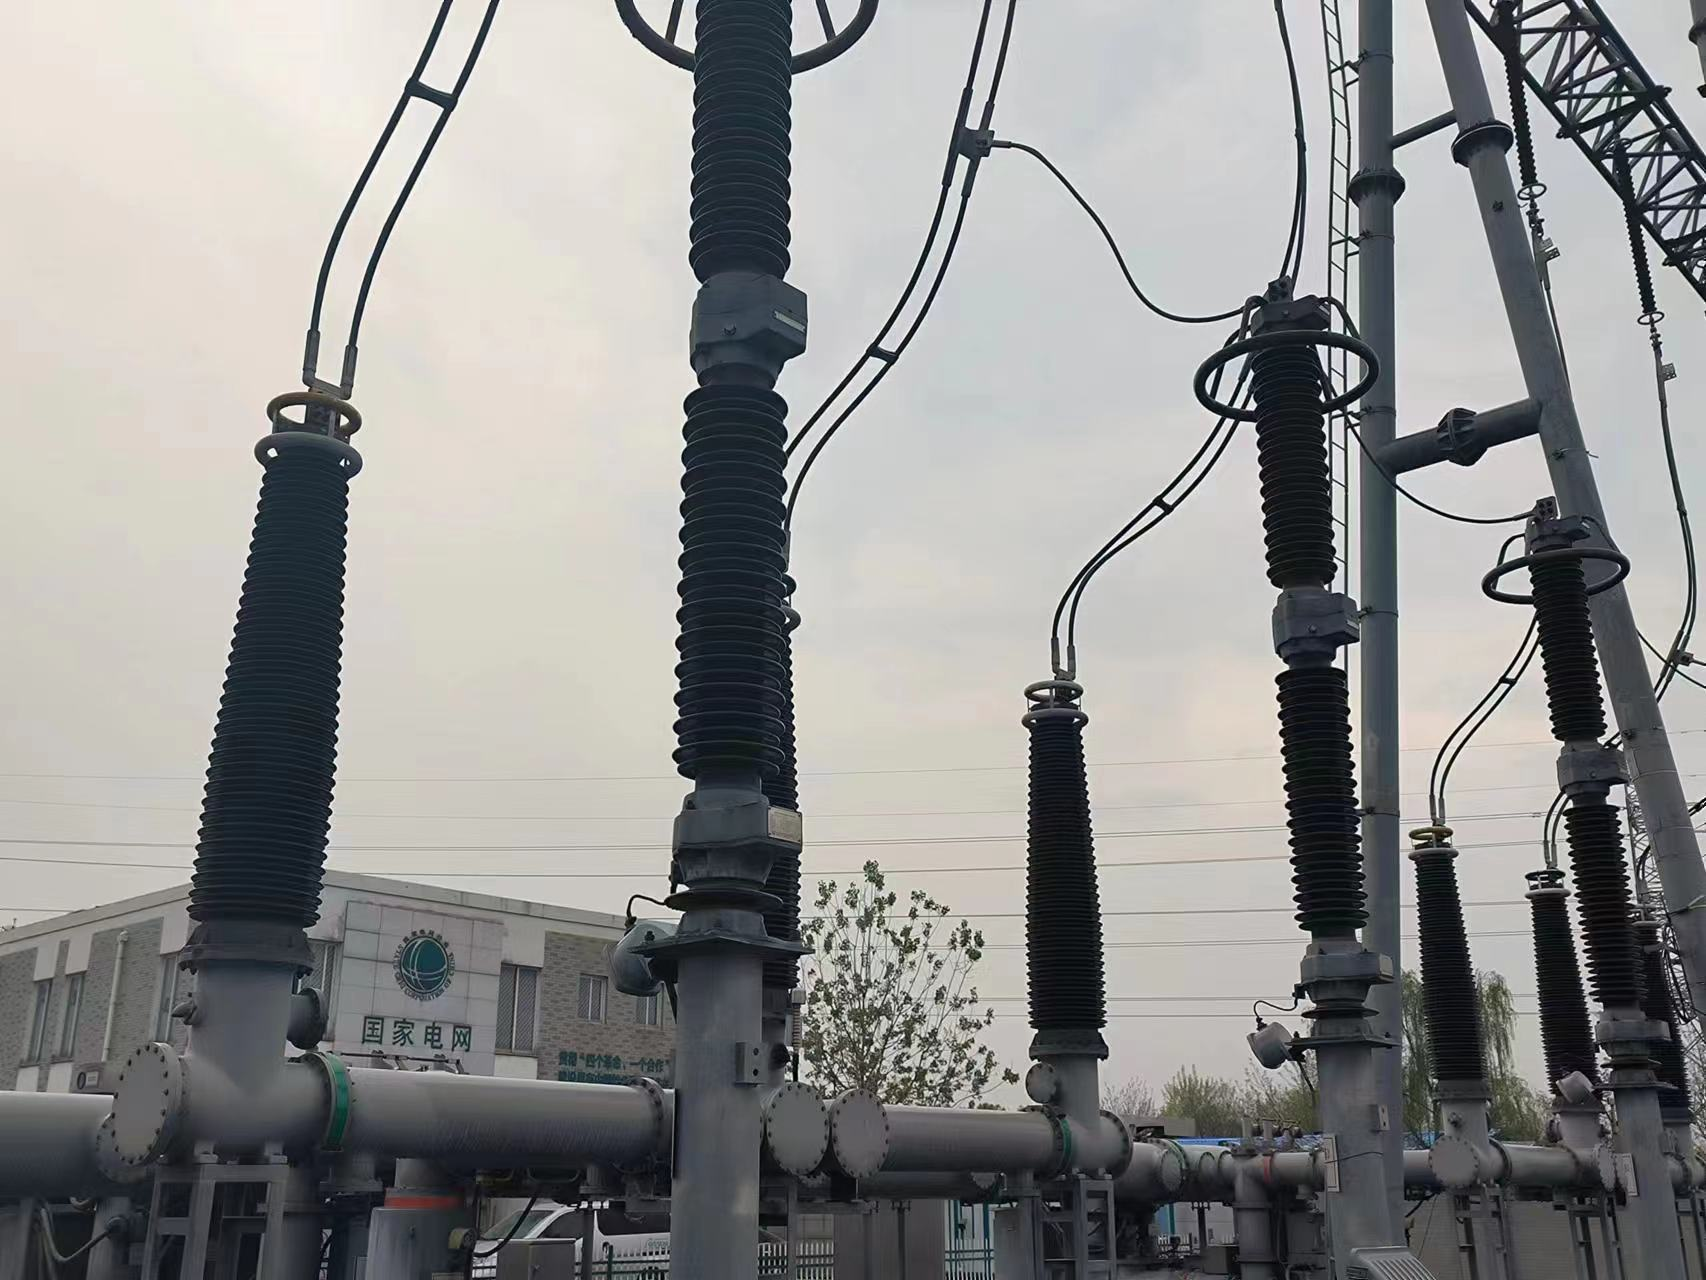Arrester: (1188, 297, 1383, 938), (1473, 502, 1658, 1004)
Voltage transformer: (179, 393, 367, 929), (1019, 680, 1110, 1034)
